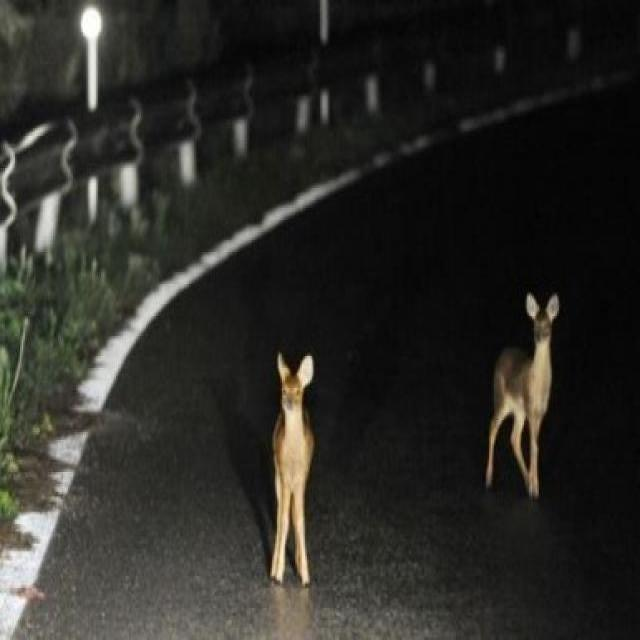deer: (481, 274, 578, 519), (255, 332, 331, 592)
